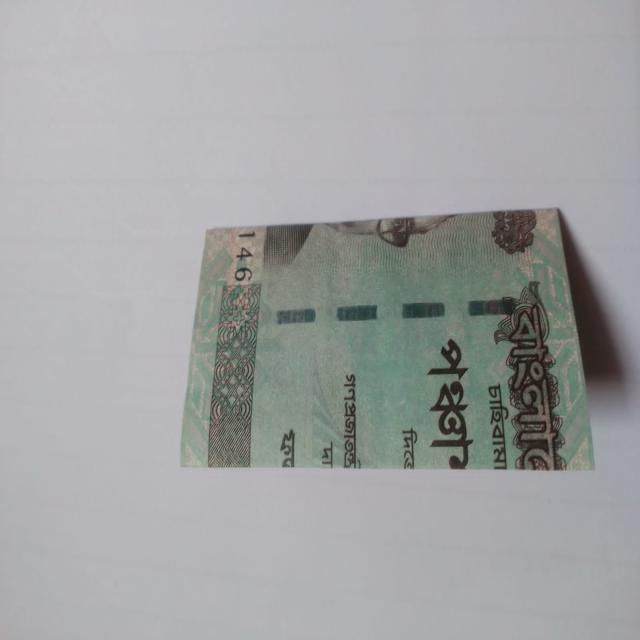Taka: (187, 212, 581, 460)
